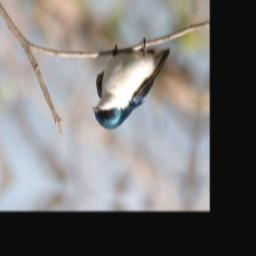Swallow: (91, 28, 173, 140)
